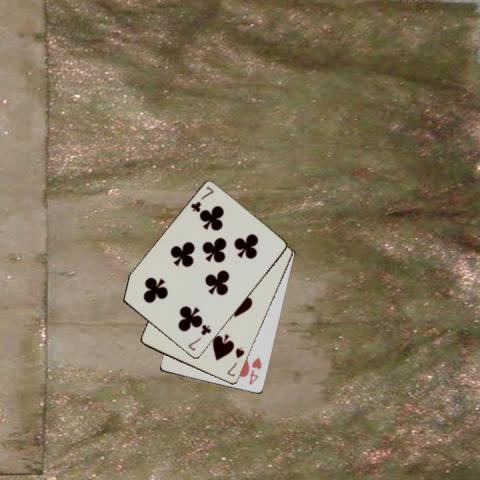4h: (246, 354, 263, 387)
7c: (185, 322, 213, 352), (188, 184, 216, 214)
7s: (224, 344, 246, 378)
